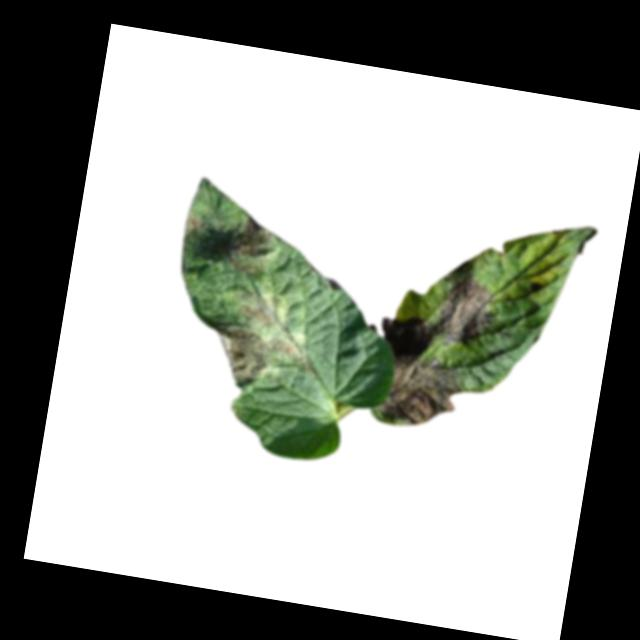Late_blight: (364, 311, 468, 435), (207, 321, 304, 396), (435, 276, 498, 351), (233, 286, 287, 332), (233, 213, 278, 262), (183, 212, 208, 238)
